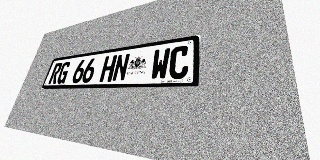6: (81, 58, 98, 83), (71, 59, 88, 83)
C: (168, 45, 190, 79)
G: (56, 61, 71, 84)
H: (99, 55, 117, 82)
N: (111, 53, 130, 82)
R: (48, 62, 63, 84)
W: (150, 47, 171, 80)
